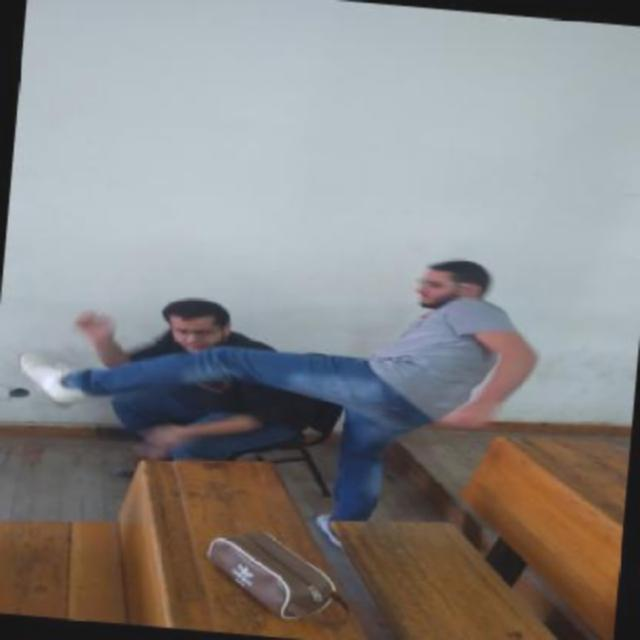fight: (14, 217, 540, 485)
